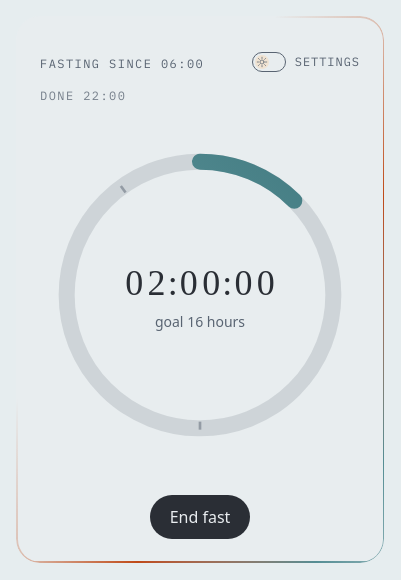
Scenario: <Timer> active fast › tapping the readout toggles it between elapsed and remaining time, and back (feature: remaining time)
Click the button named "Showing elapsed time. Tap to show time remaining.": (200, 283) [115,258,285,308]
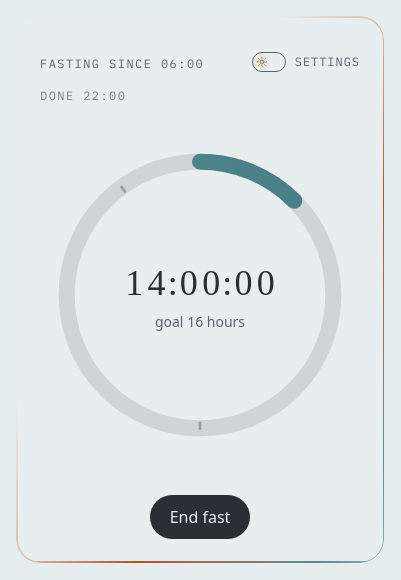
Expected: the button named "Showing elapsed time. Tap to show time remaining." reads "1 4 : 0 0 : 0 0"
Click the button named "Showing time remaining. Tap to show elapsed time.": (200, 283) [115,258,285,308]
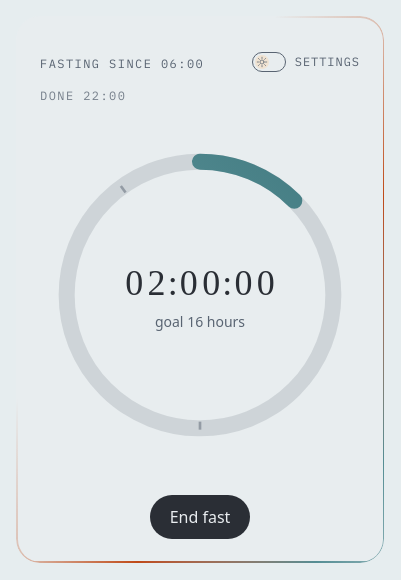
Expected: the button named "Showing time remaining. Tap to show elapsed time." reads "0 2 : 0 0 : 0 0", [115,258,285,308]
